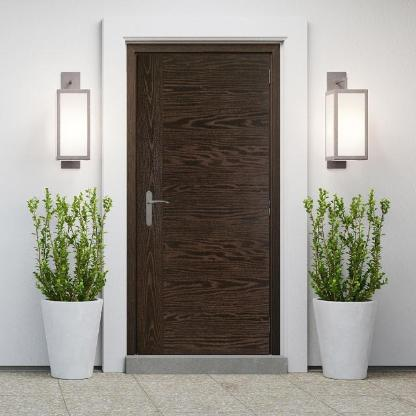door: (118, 26, 288, 378)
